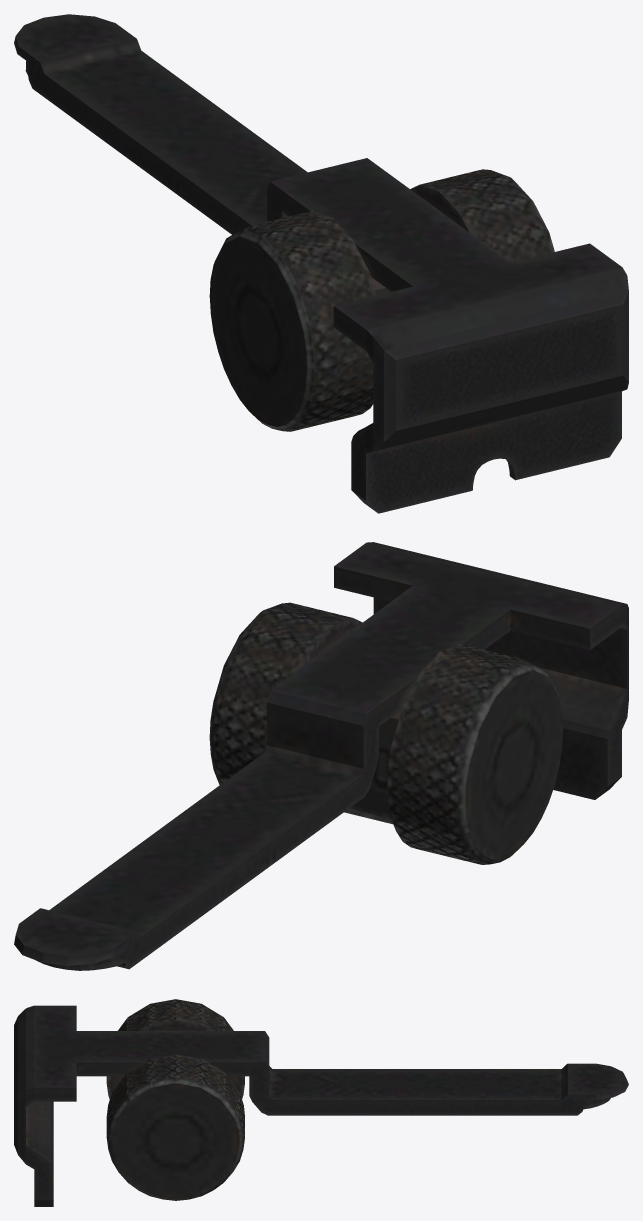
3 views of the same model, one above another, from view 1: azimuth 30°, elevation 25°; view 2: azimuth 150°, elevation 25°; view 3: azimuth 270°, elevation 25° (orthographic). The views are drawn at different scales.
Parts seen in each view (by area): view 1: TW_5aba637ad8ce87001773e17f_PZ_Import; view 2: TW_5aba637ad8ce87001773e17f_PZ_Import; view 3: TW_5aba637ad8ce87001773e17f_PZ_Import.
Boxes of the visible parts, x1,y1,x2,y2 form: TW_5aba637ad8ce87001773e17f_PZ_Import: [14, 14, 628, 513]; TW_5aba637ad8ce87001773e17f_PZ_Import: [14, 542, 628, 970]; TW_5aba637ad8ce87001773e17f_PZ_Import: [14, 999, 628, 1206].
Bounding box in the file's own units: 0.00816 × 0.0258 × 0.00613.
Materials: 1 (1 with a texture image).
